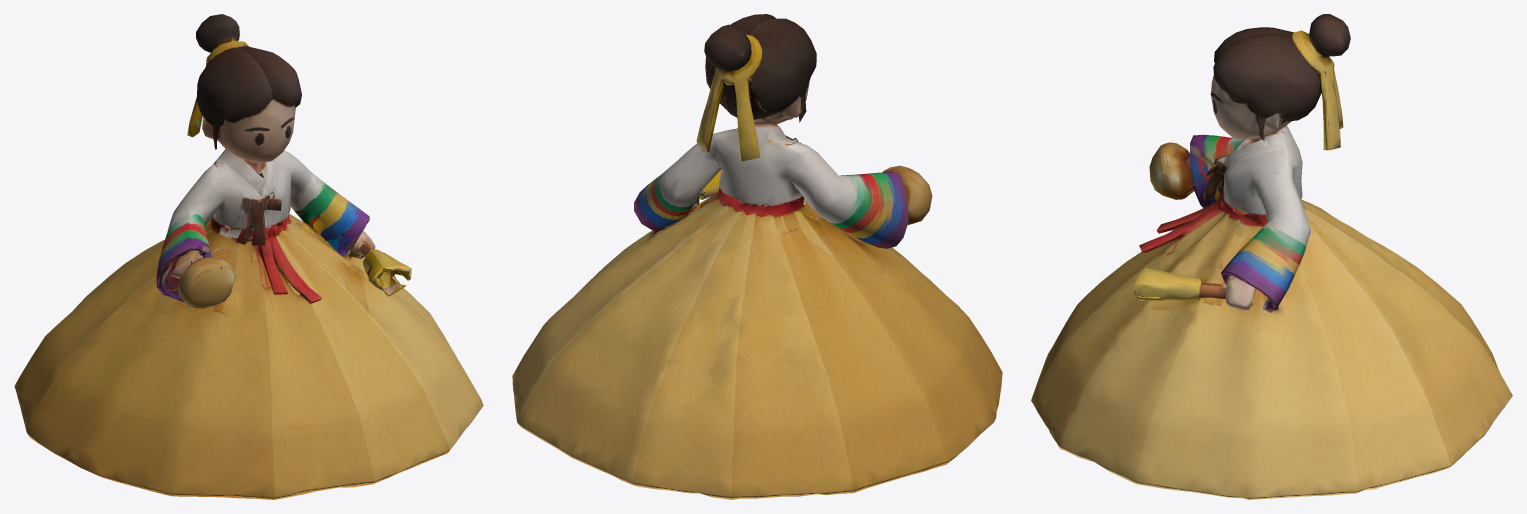
Rendered from Player.fbx.
3 views of the same model, side by side, from view 1: azimuth 30°, elevation 25°; view 2: azimuth 150°, elevation 25°; view 3: azimuth 270°, elevation 25° (orthographic). The views are drawn at different scales.
Visible parts, largest first — view 1: texture_mapping; view 2: texture_mapping; view 3: texture_mapping.
Part boxes in pixels (x1,y1,x2,y2): texture_mapping: (14,14,483,499); texture_mapping: (512,14,1002,499); texture_mapping: (1031,14,1512,499).
Bounding box in the file's own units: 0.9951 × 1 × 0.8835.
1 material, 1 textured.
